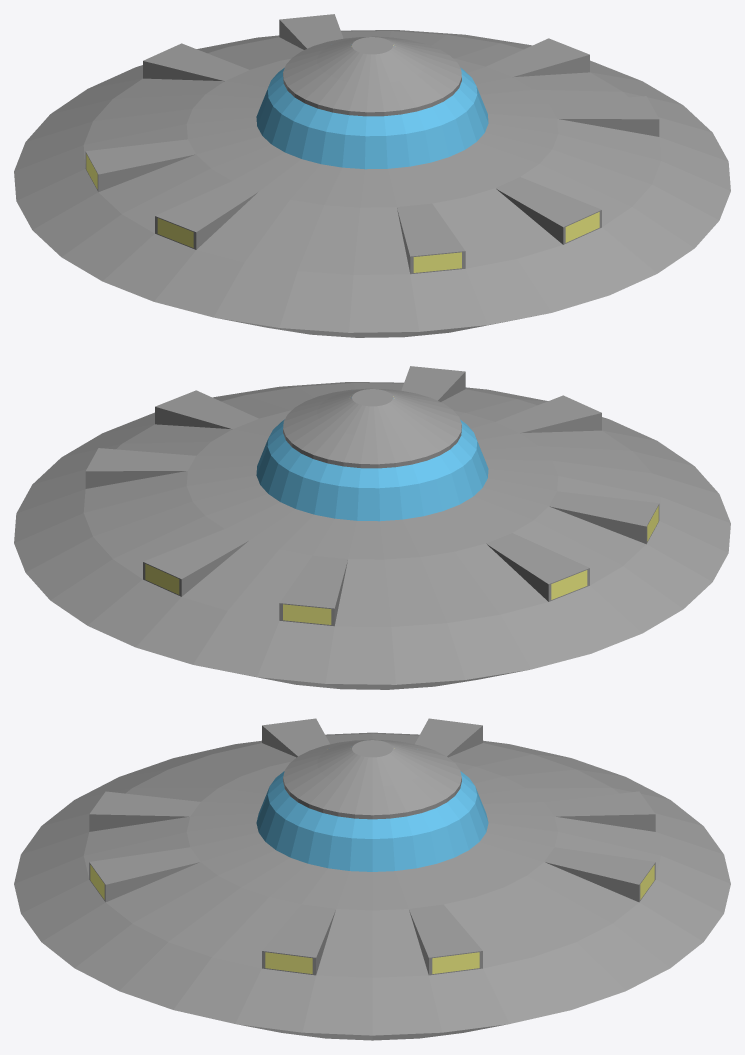
File: ufo_low-poly.glb
The picture shows the model from 3 angles, top to bottom: view 1: azimuth 30°, elevation 25°; view 2: azimuth 150°, elevation 25°; view 3: azimuth 270°, elevation 25°; orthographic projection.
Parts seen in each view (by area): view 1: Cylinder; view 2: Cylinder; view 3: Cylinder.
Boxes of the visible parts, x1,y1,x2,y2 form: Cylinder: [14, 14, 730, 337]; Cylinder: [14, 366, 730, 689]; Cylinder: [14, 718, 730, 1040].
Size of the model in its own units: 13.64 by 5.62 by 13.64.
1 material, 1 textured.
